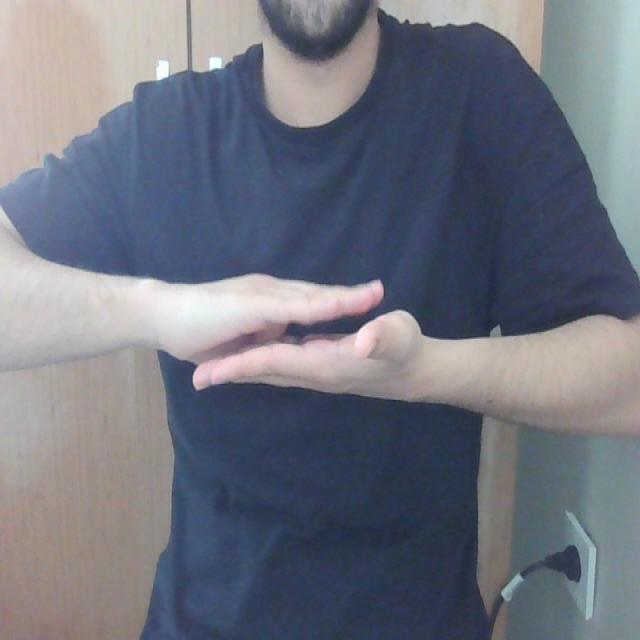Arkadas: (2, 258, 640, 417)
